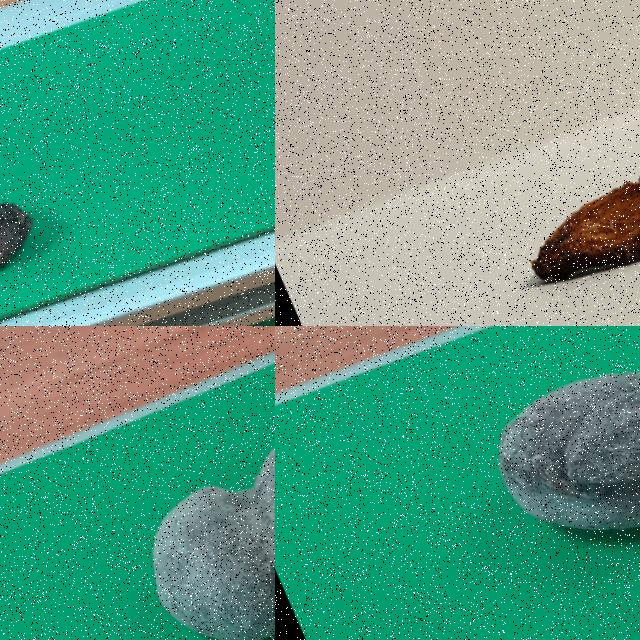Agglomerated_cocoabeans: (23, 327, 274, 639), (412, 326, 639, 639)
Flat_cocoabeans: (445, 81, 639, 325), (0, 111, 119, 325)
